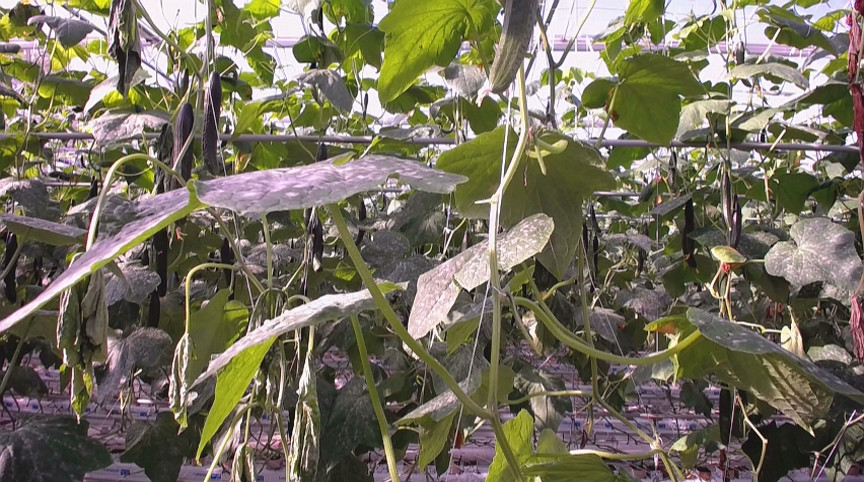cucumber: (490, 1, 538, 93), (204, 72, 221, 176), (176, 100, 191, 186), (718, 171, 734, 230)
